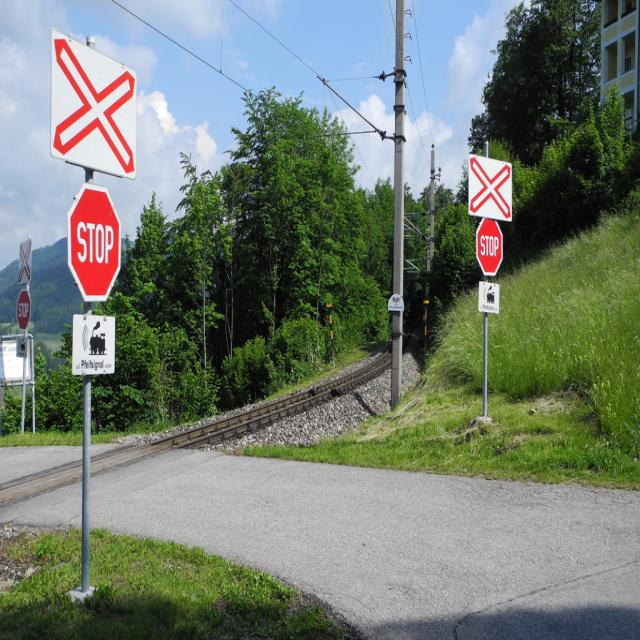Stop-sign: (68, 181, 122, 305), (476, 218, 503, 278), (15, 289, 33, 331)
